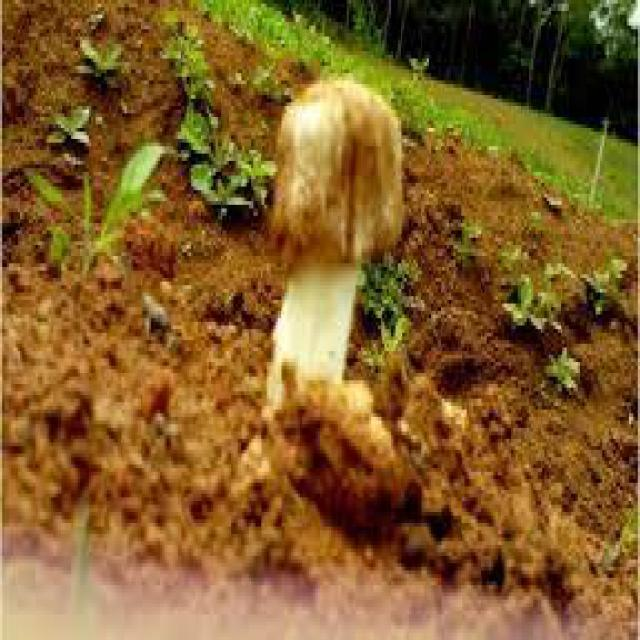Agaricus blazei Murill: (268, 77, 401, 416)
